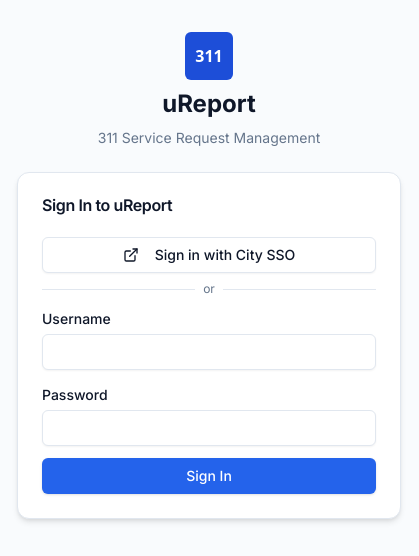
Test: LoginPage › shows error message on 401 response
Type "bad" into the field labelled "Username" at (209, 352), box [42,334,376,370]
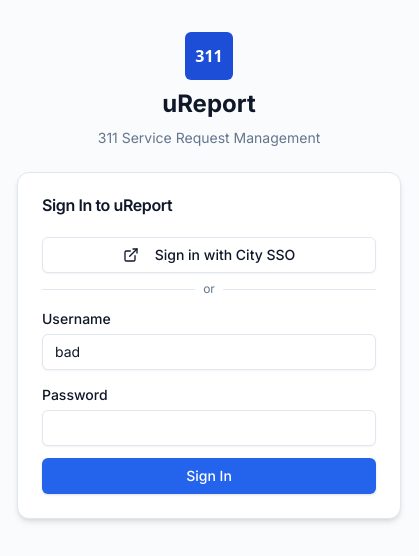
Type "wrong" into the password field labelled "Password" at (209, 428), box [42,410,376,446]
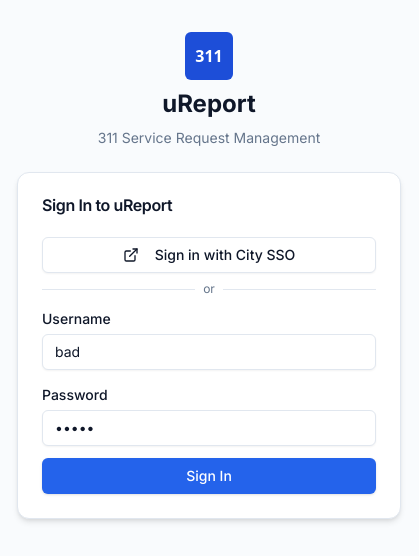
Click the button "Sign In" at (209, 476), box [42,458,376,494]
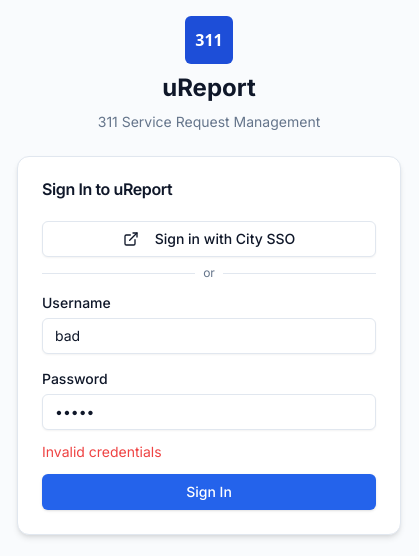
Expected: the message reads "Invalid credentials", [42,442,162,460]
